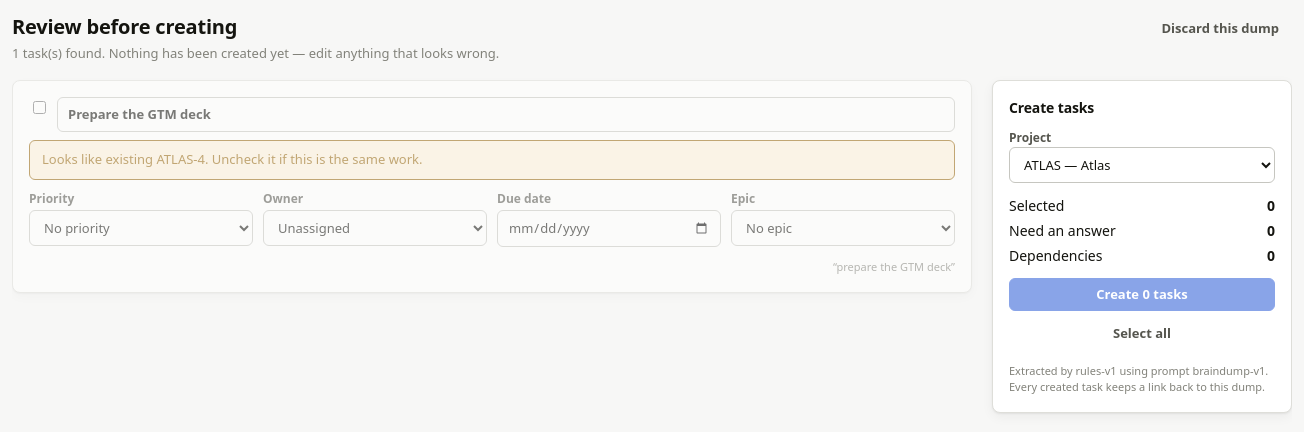
Test: ProposalReview › opts a suspected duplicate out by default but still shows it
Expected: the text "Looks like existing ATLAS-4" is shown, top-left (29, 140), bottom-right (955, 180)
Expected: the button "Create 0 tasks" is disabled, top-left (1009, 278), bottom-right (1275, 311)
Click the checkbox named "Include \"Prepare the GTM deck\"" at x=40, y=107, box top-left (33, 100), bottom-right (46, 114)
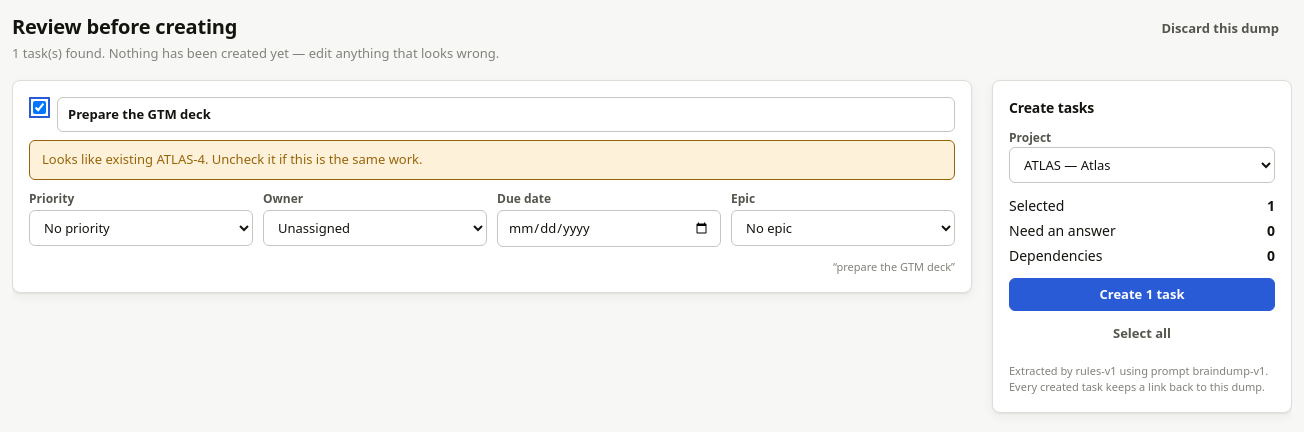
Result: the button "Create 1 task" is enabled at top-left (1009, 278), bottom-right (1275, 311)
